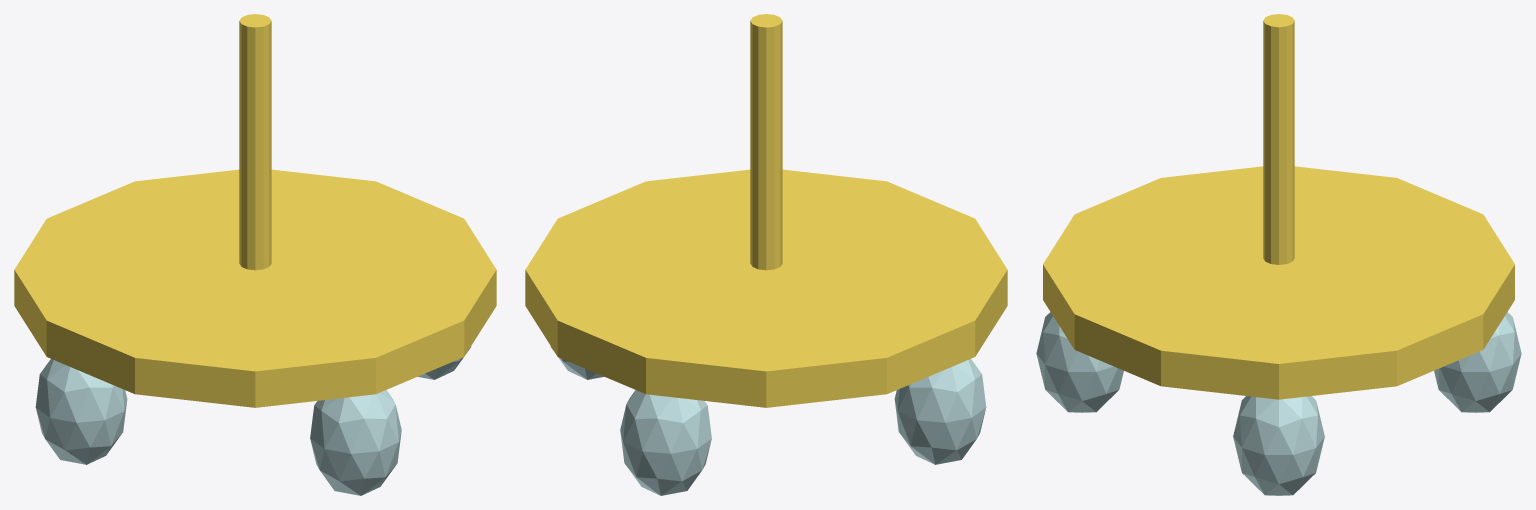
File: sm_product_chandelier.glb
3 views of the same model, side by side, from view 1: azimuth 30°, elevation 25°; view 2: azimuth 150°, elevation 25°; view 3: azimuth 270°, elevation 25° (orthographic). The views are drawn at different scales.
Parts seen in each view (by area): view 1: chandelier_1, chandelier_0, chandelier_5, chandelier_3; view 2: chandelier_1, chandelier_0, chandelier_4, chandelier_3; view 3: chandelier_1, chandelier_0, chandelier_2, chandelier_4, chandelier_5.
Boxes of the visible parts, x1,y1,x2,y2 form: chandelier_1: [14, 169, 496, 407]; chandelier_0: [239, 14, 271, 270]; chandelier_5: [310, 390, 401, 495]; chandelier_3: [35, 359, 127, 464]; chandelier_1: [525, 169, 1007, 407]; chandelier_0: [750, 14, 782, 270]; chandelier_4: [620, 390, 711, 495]; chandelier_3: [894, 359, 986, 464]; chandelier_1: [1043, 166, 1514, 399]; chandelier_0: [1263, 14, 1294, 264]; chandelier_2: [1233, 396, 1324, 495]; chandelier_4: [1434, 312, 1521, 412]; chandelier_5: [1036, 312, 1123, 412].
Size of what is drawn, in the model's own units: 0.3666 by 0.33 by 0.37.
